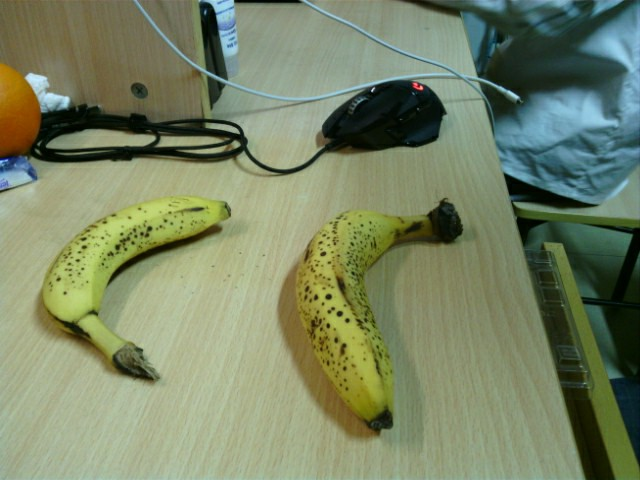normal_banana: (295, 200, 464, 429), (40, 198, 233, 383)
